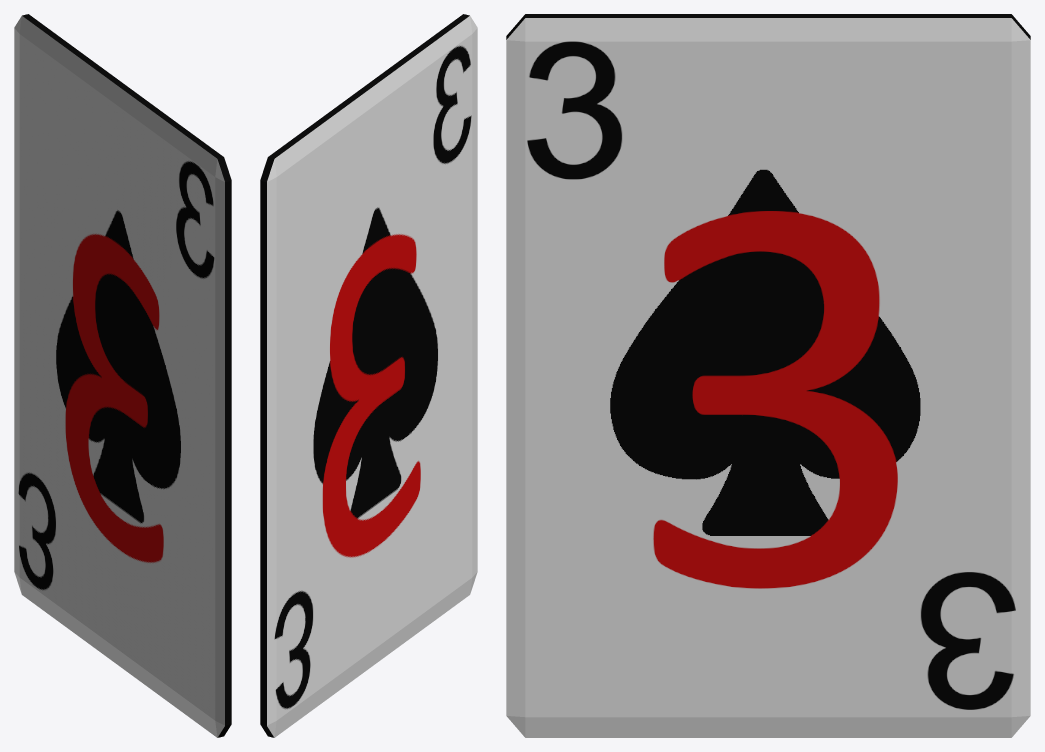
File: 3ofspades.fbx
3 views of the same model, side by side, from view 1: azimuth 30°, elevation 25°; view 2: azimuth 150°, elevation 25°; view 3: azimuth 270°, elevation 25° (orthographic). The views are drawn at different scales.
Parts seen in each view (by area): view 1: pCube1; view 2: pCube1; view 3: pCube1.
Part boxes in pixels (box(x1,y1,x2,y2)): pCube1: box(14, 14, 231, 737); pCube1: box(260, 14, 477, 737); pCube1: box(506, 14, 1030, 737).
Size of the model in its own units: 0.1308 by 6.5 by 4.29.
2 materials, 1 textured.
